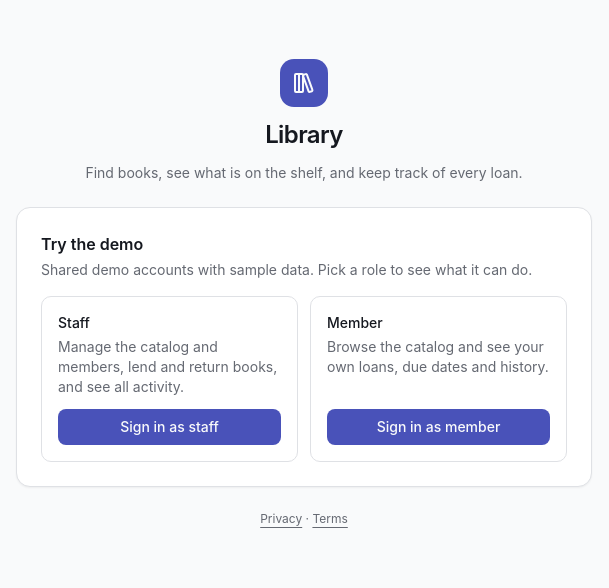
it: SignInPage › shows why a demo sign-in failed
What coordinates should you click on to do the following:
click the button "Sign in as staff"
I would click on:
 (170, 427)
Its box is [58, 409, 281, 445].
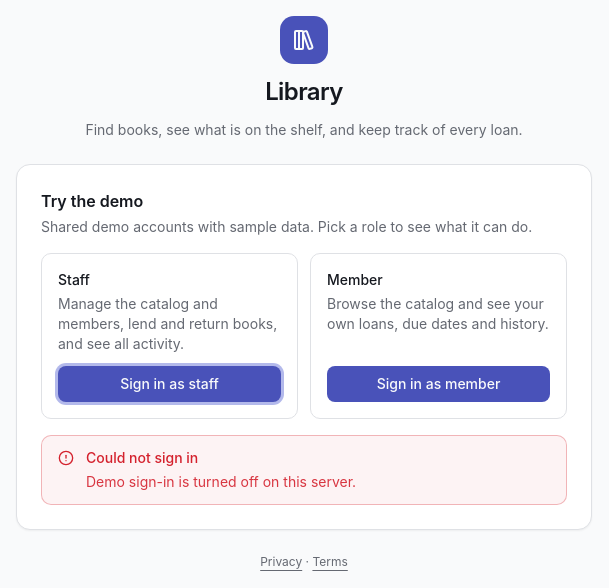
expect the message shows "Demo sign-in is turned off on this server.": met, box [86, 473, 356, 490]
